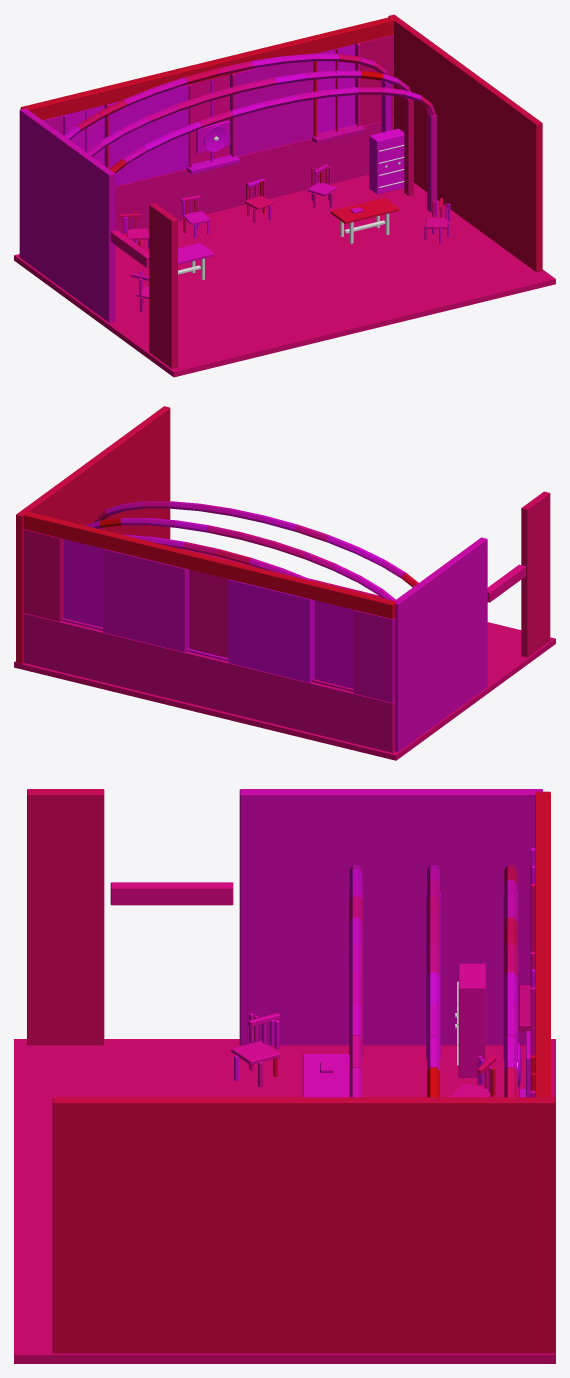
Rendered from court_chapter_05.glb.
3 renders of one model, top to bottom at view 1: azimuth 30°, elevation 25°; view 2: azimuth 150°, elevation 25°; view 3: azimuth 270°, elevation 25°, orthographic. The views are drawn at different scales.
Visible parts, largest first — view 1: Floor, WallRight, WallLeftRear, WallBackLow, WallBackHigh, WallBackPier_2, WallBackPier_1, WallLeftFront, VaultRib_2_Curve, VaultRib_0_Curve, VaultRib_1_Curve, Glazing_2 (+21 smaller); view 2: WallBackLow, WallLeftRear, WallRight, WallBackPier_1, WallBackPier_2, WallBackHigh, Floor, WallLeftFront, WallBackPier_0, WallBackPier_end, Glazing_0, Glazing_1 (+5 smaller); view 3: WallRight, WallLeftRear, Floor, WallLeftFront, WallBackHigh, VaultRib_0_Curve, VaultRib_2_Curve, RecordNiche_-4.8, VaultRib_1_Curve, DoorLintel, Desk_0, Chair_officials_2 (+1 smaller).
Boxes of the visible parts, x1,y1,x2,y2 form: Floor: (14, 174, 555, 377); WallRight: (388, 14, 542, 272); WallLeftRear: (19, 108, 115, 322); WallBackLow: (115, 118, 393, 234); WallBackHigh: (20, 16, 396, 120); WallBackPier_2: (230, 61, 313, 156); WallBackPier_1: (104, 84, 188, 186); WallLeftFront: (149, 203, 177, 368); VaultRib_2_Curve: (109, 87, 435, 173); VaultRib_0_Curve: (63, 53, 387, 139); VaultRib_1_Curve: (86, 70, 410, 156); Glazing_2: (316, 44, 354, 133); WallBackLow: (23, 613, 394, 752); WallLeftRear: (394, 537, 487, 751); WallRight: (16, 406, 170, 663); WallBackPier_1: (228, 579, 314, 682); WallBackPier_2: (103, 548, 189, 652); WallBackHigh: (22, 511, 396, 619); Floor: (14, 548, 555, 760); WallLeftFront: (521, 491, 550, 657); WallBackPier_0: (353, 610, 394, 702); WallBackPier_end: (23, 529, 63, 621); Glazing_0: (314, 600, 353, 688); Glazing_1: (189, 569, 228, 658); WallRight: (52, 1097, 555, 1353); WallLeftRear: (239, 789, 542, 1045); Floor: (14, 1039, 555, 1363); WallLeftFront: (27, 789, 104, 1045); WallBackHigh: (535, 791, 550, 1098); VaultRib_0_Curve: (504, 865, 517, 1097); VaultRib_2_Curve: (349, 865, 362, 1097); RecordNiche_-4.8: (455, 963, 485, 1077); VaultRib_1_Curve: (427, 865, 439, 1097); DoorLintel: (110, 882, 233, 905); Desk_0: (302, 1054, 349, 1097); Chair_officials_2: (231, 1013, 280, 1087).
Bounding box in the file's own units: 11.6 × 4.49 × 8.4.
